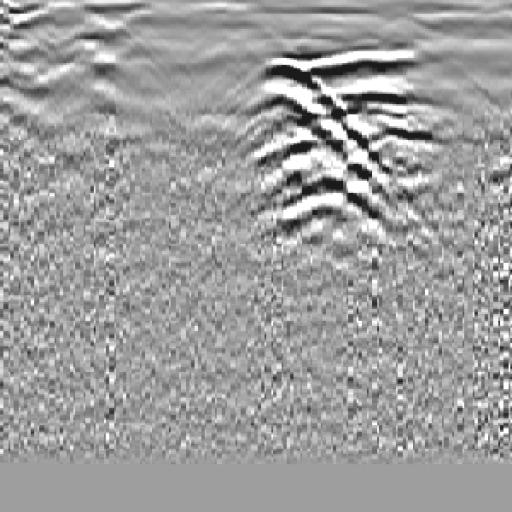metalic: (217, 53, 421, 267)
